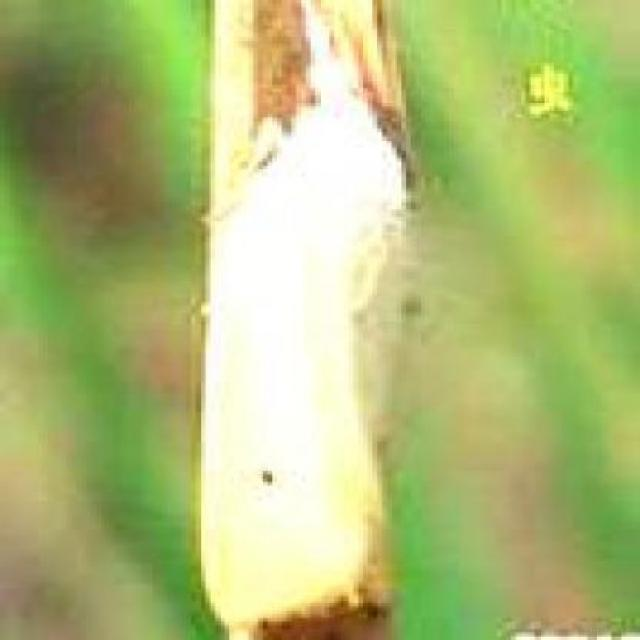stem-borer: (198, 0, 417, 640)
